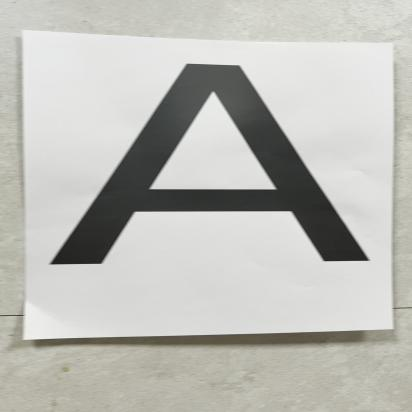seat: (36, 59, 385, 268)
